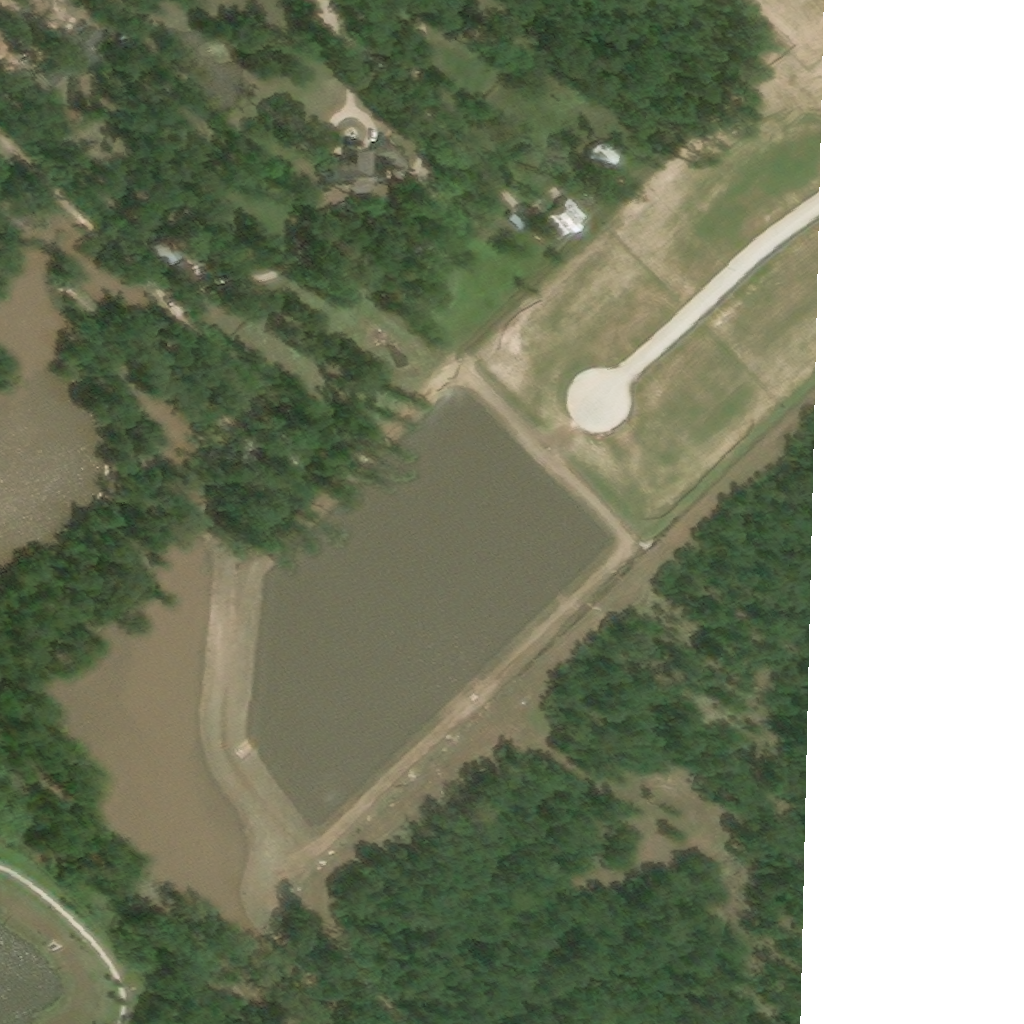no_damage: (331, 134, 424, 199), (38, 19, 100, 89), (147, 225, 195, 285), (540, 197, 588, 244), (588, 143, 629, 189), (151, 67, 178, 93), (118, 31, 140, 53), (508, 213, 525, 233)
unclassified: (396, 206, 450, 261), (588, 176, 609, 193), (57, 107, 69, 121)
